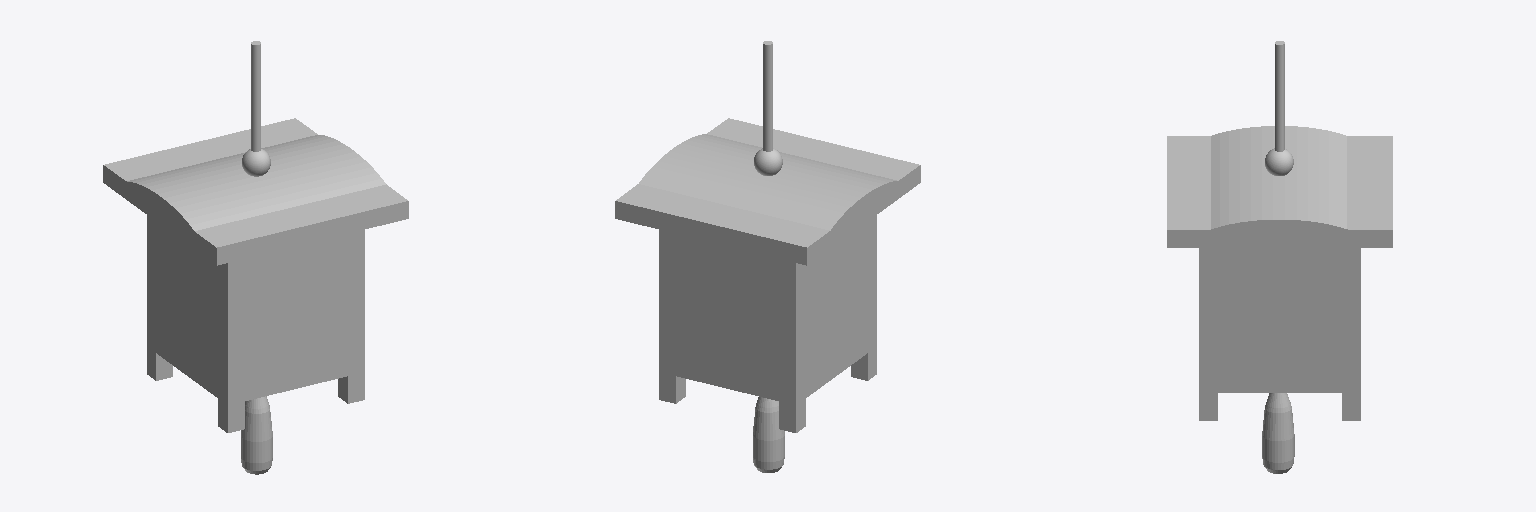
The model's file is Lampara.obj.
3 renders of one model, left to right at view 1: azimuth 30°, elevation 25°; view 2: azimuth 150°, elevation 25°; view 3: azimuth 270°, elevation 25°, orthographic.
Parts seen in each view (by area): view 1: Cube; view 2: Cube; view 3: Cube.
Boxes of the visible parts, <box> form: Cube: <box>103,41,408,474</box>; Cube: <box>615,41,920,472</box>; Cube: <box>1167,41,1392,473</box>.
Size of the model in its own units: 2.38 by 5.05 by 2.43.